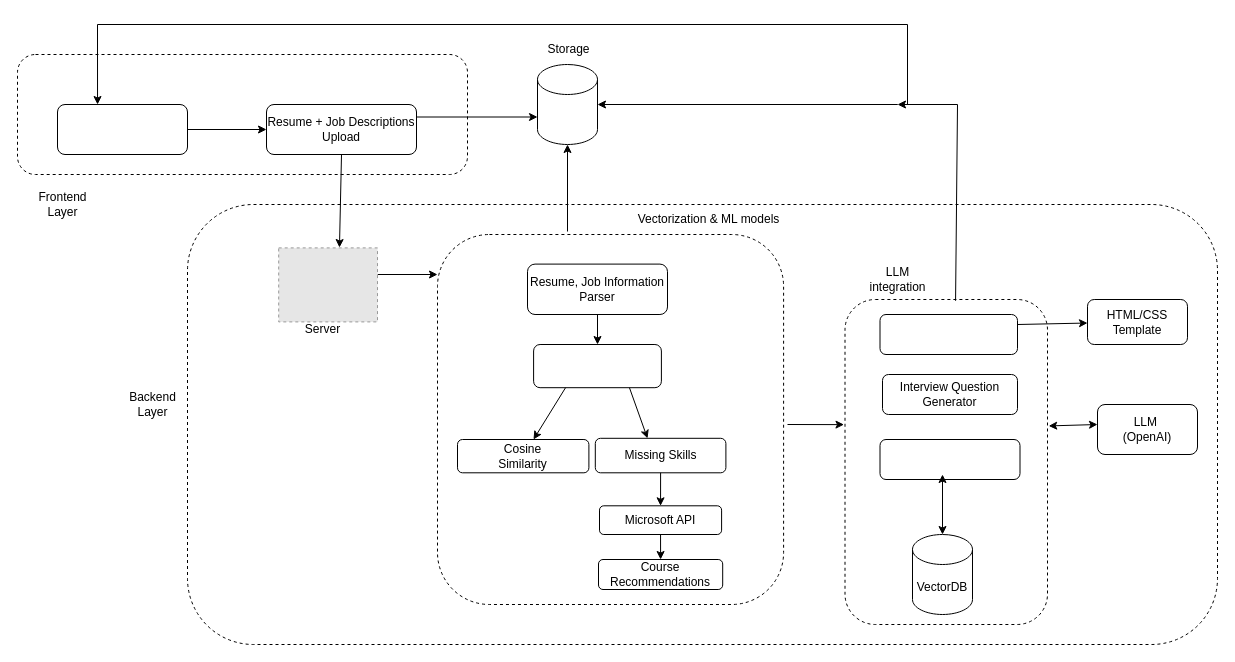
This 1235x662 diagram has some shape labels left out. Grey dashed boxes stand in for pictures. The shapes that lost their labels are listed below. From the top down, each one's centre as x and y in pixels, then its label:
point 567,104: SQlite DB
point 122,129: WEB UI
point 948,334: Portfolio Website Generator
point 597,366: SVC, KNN, TDIF vectorizer
point 949,459: RAG Chatbot
